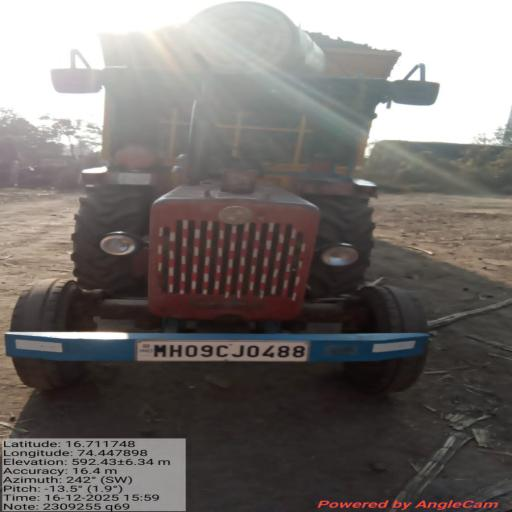number_plate: (136, 341, 310, 361)
